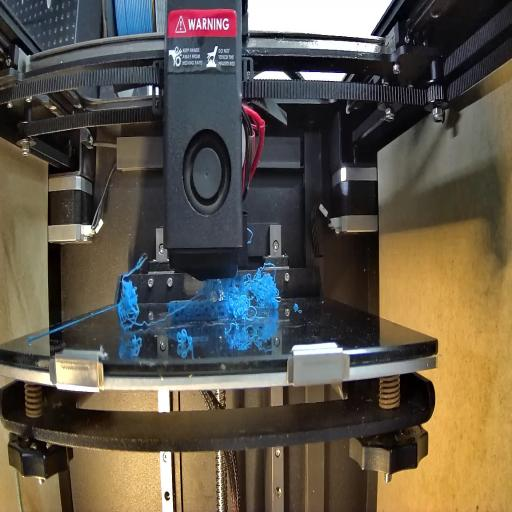spaghetti: (224, 277, 290, 324), (118, 284, 144, 351), (200, 281, 222, 336), (176, 324, 196, 342)
